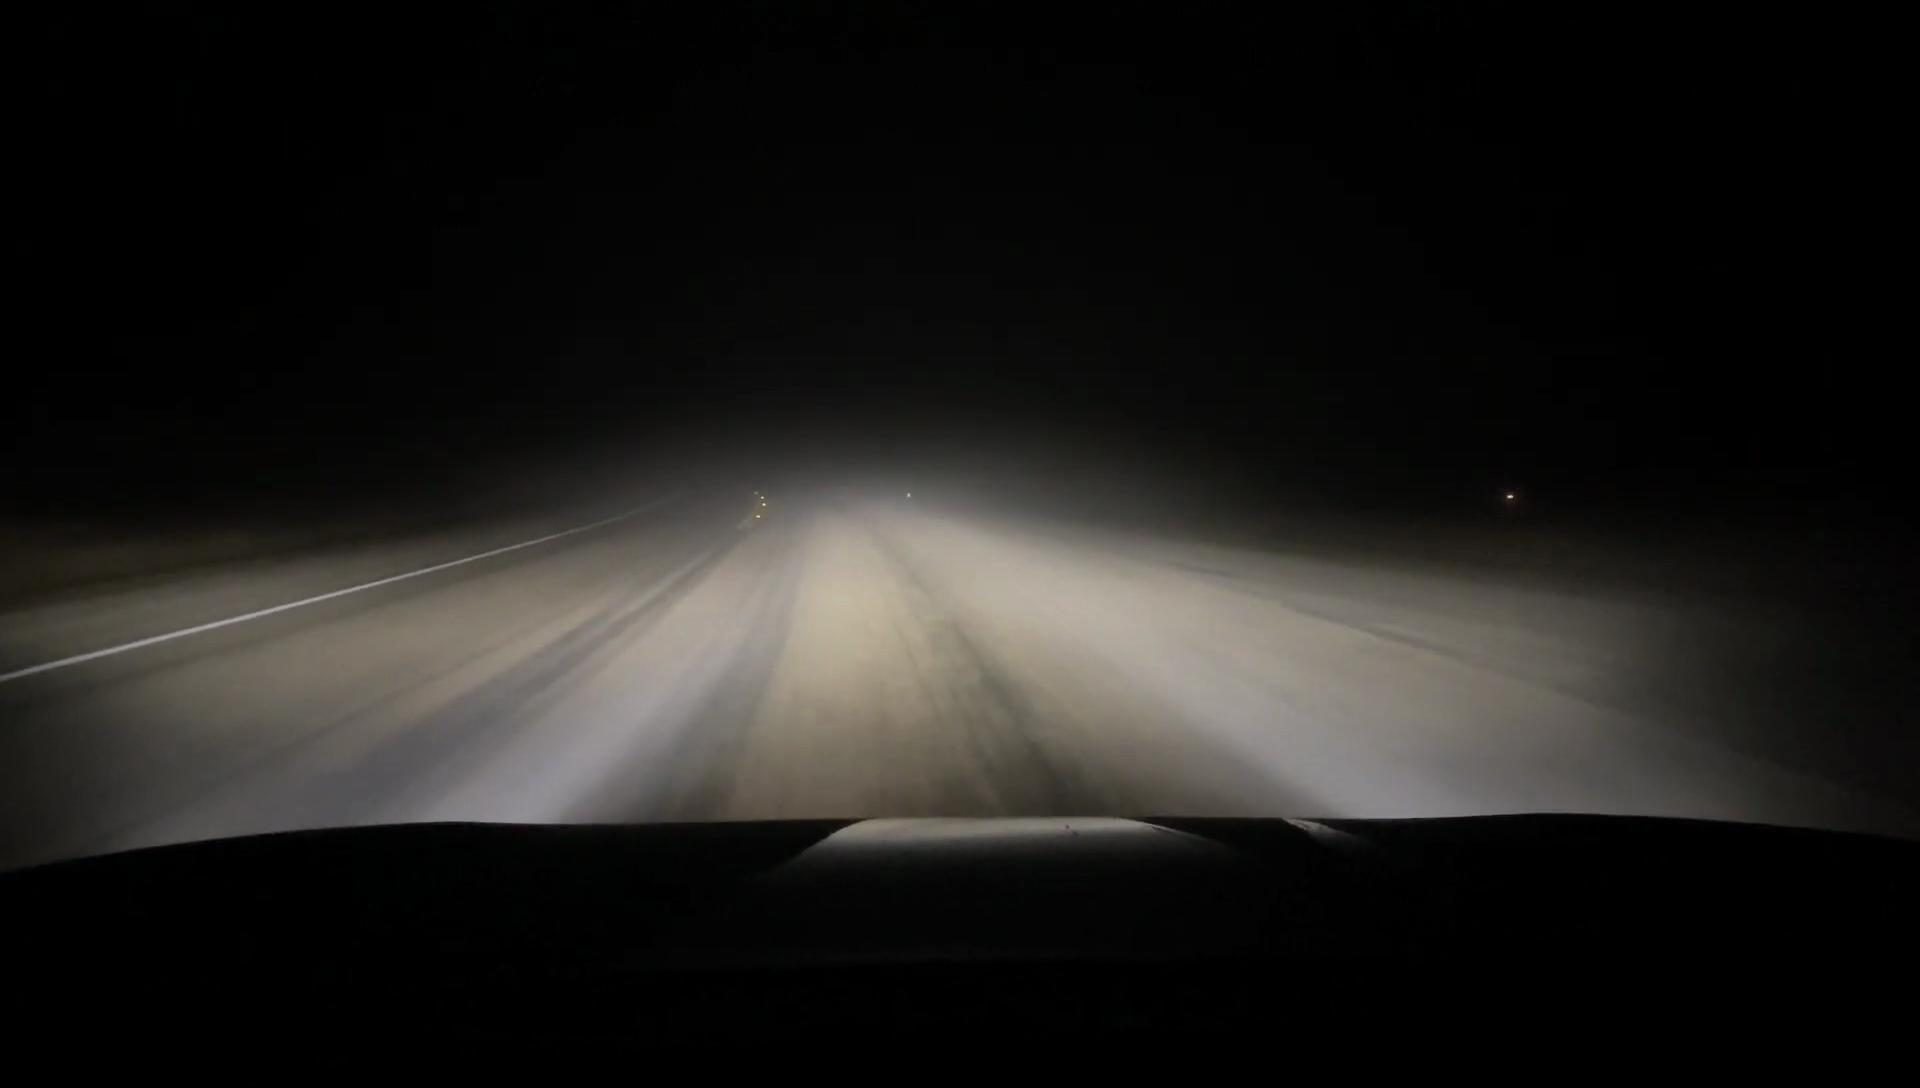road-lanes: (206, 495, 1709, 827)
